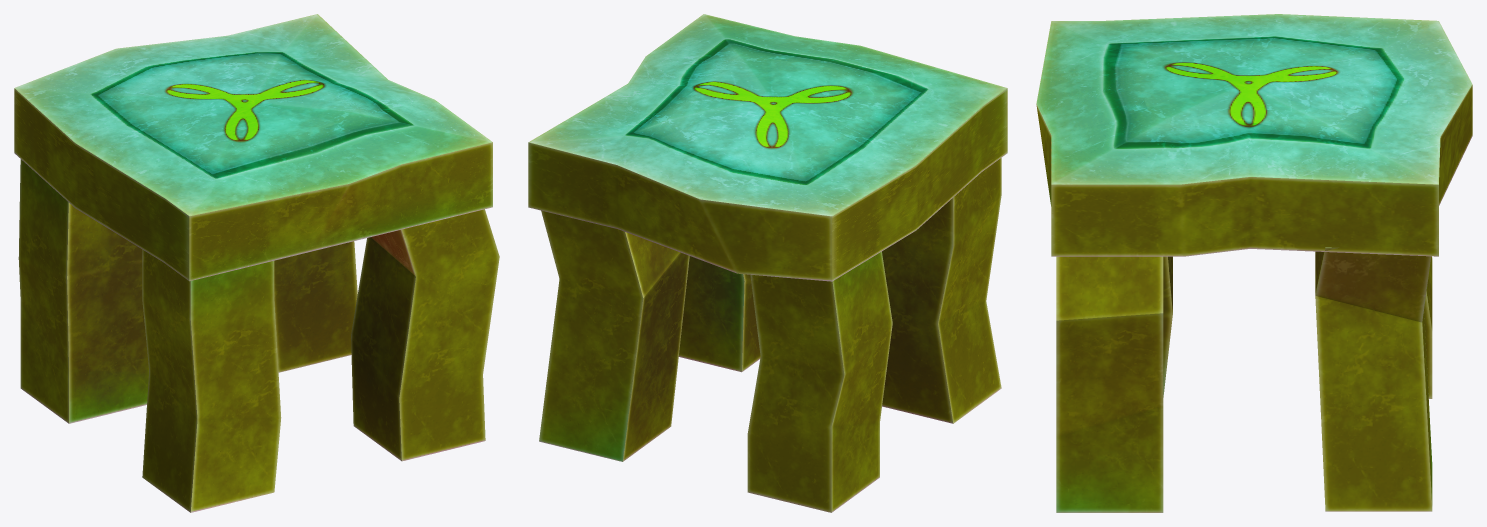
File: Portal_Model.fbx
The picture shows the model from 3 angles, left to right: view 1: azimuth 30°, elevation 25°; view 2: azimuth 150°, elevation 25°; view 3: azimuth 270°, elevation 25°; orthographic projection. The views are drawn at different scales.
Visible parts, largest first — view 1: Portal_Model; view 2: Portal_Model; view 3: Portal_Model.
Boxes of the visible parts, box(x1,y1,x2,y2) form: Portal_Model: box(14, 14, 499, 512); Portal_Model: box(528, 14, 1007, 512); Portal_Model: box(1036, 14, 1472, 512).
Bounding box in the file's own units: 9.26 × 8.58 × 9.76.
1 material, 1 textured.
